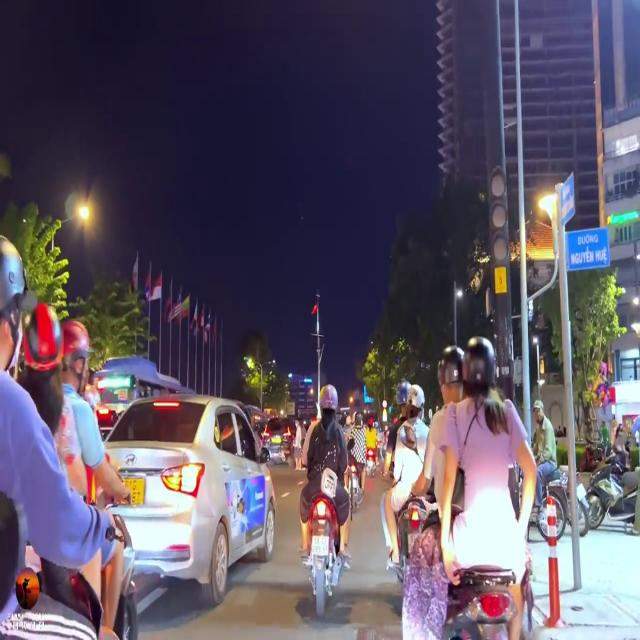bien_trang: (310, 536, 328, 556)
